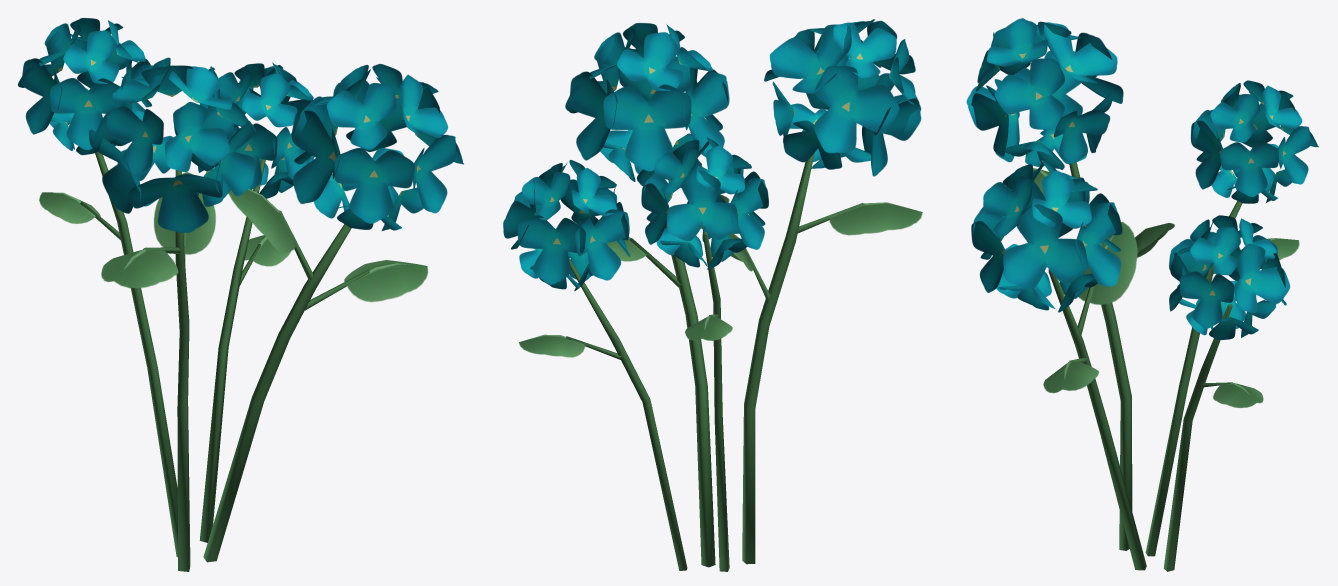
The model's file is flower_clump_1.glb.
3 views of the same model, side by side, from view 1: azimuth 30°, elevation 25°; view 2: azimuth 150°, elevation 25°; view 3: azimuth 270°, elevation 25° (orthographic). The views are drawn at different scales.
Size of the model in its own units: 0.4711 by 0.6713 by 0.4352.
1 material, 1 textured.
